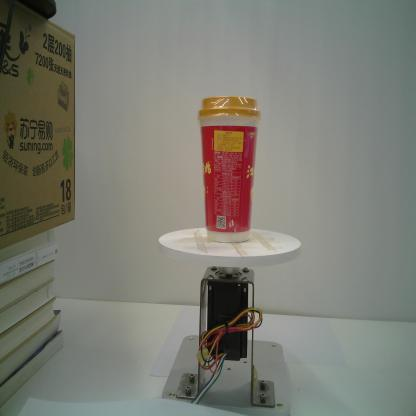Instant Drink: (198, 96, 261, 243)
